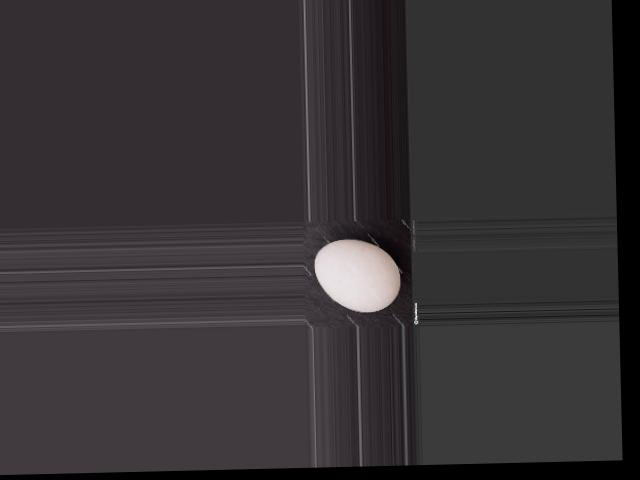egg: (314, 237, 401, 313)
